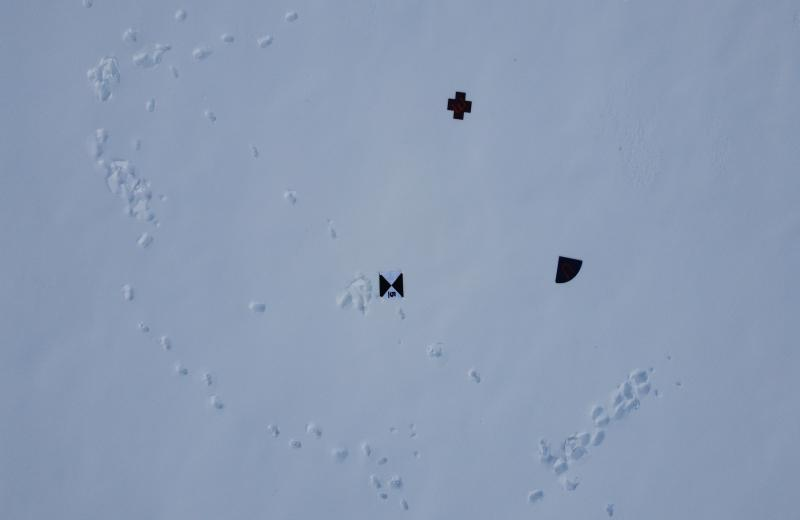Cross: (442, 88, 477, 122)
Quarter Circle: (552, 252, 584, 286)
